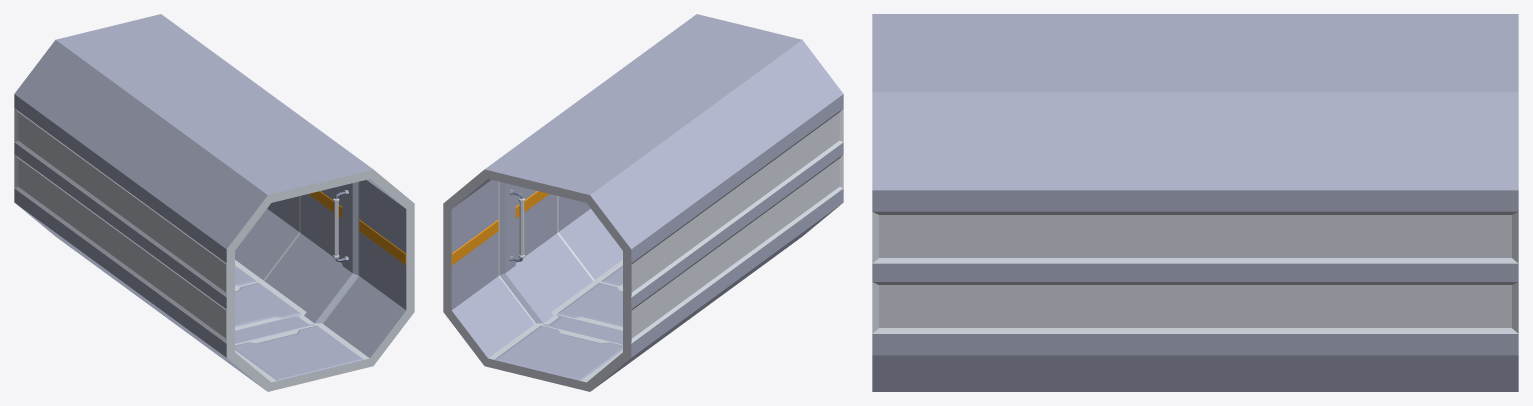
The model's file is AirtTube.FBX.
The picture shows the model from 3 angles, left to right: view 1: azimuth 30°, elevation 25°; view 2: azimuth 150°, elevation 25°; view 3: azimuth 270°, elevation 25°; orthographic projection. The views are drawn at different scales.
Parts seen in each view (by area): view 1: AirTube; view 2: AirTube; view 3: AirTube.
Boxes of the visible parts, x1,y1,x2,y2 form: AirTube: (14,14,414,391); AirTube: (443,14,843,391); AirTube: (872,14,1518,391).
Bounding box in the file's own units: 32.63 × 32.63 × 63.82.
